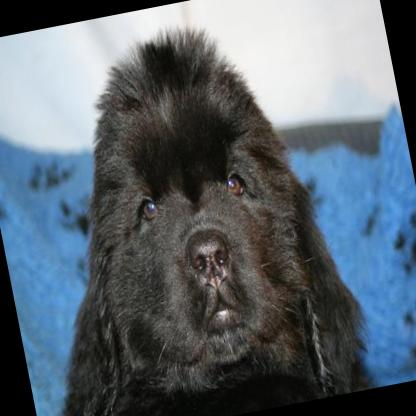Newfoundland: (0, 0, 378, 416)
